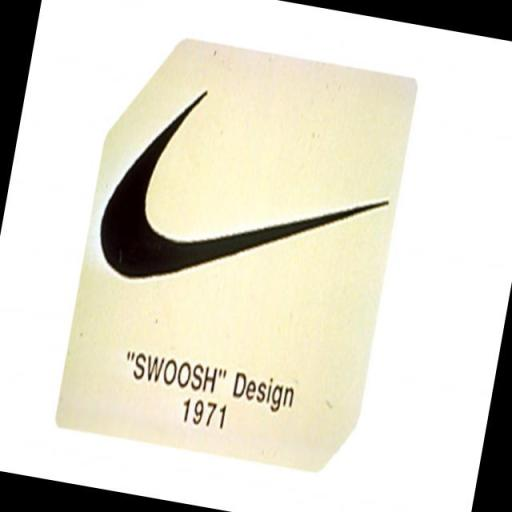Nike: (92, 106, 398, 320)
